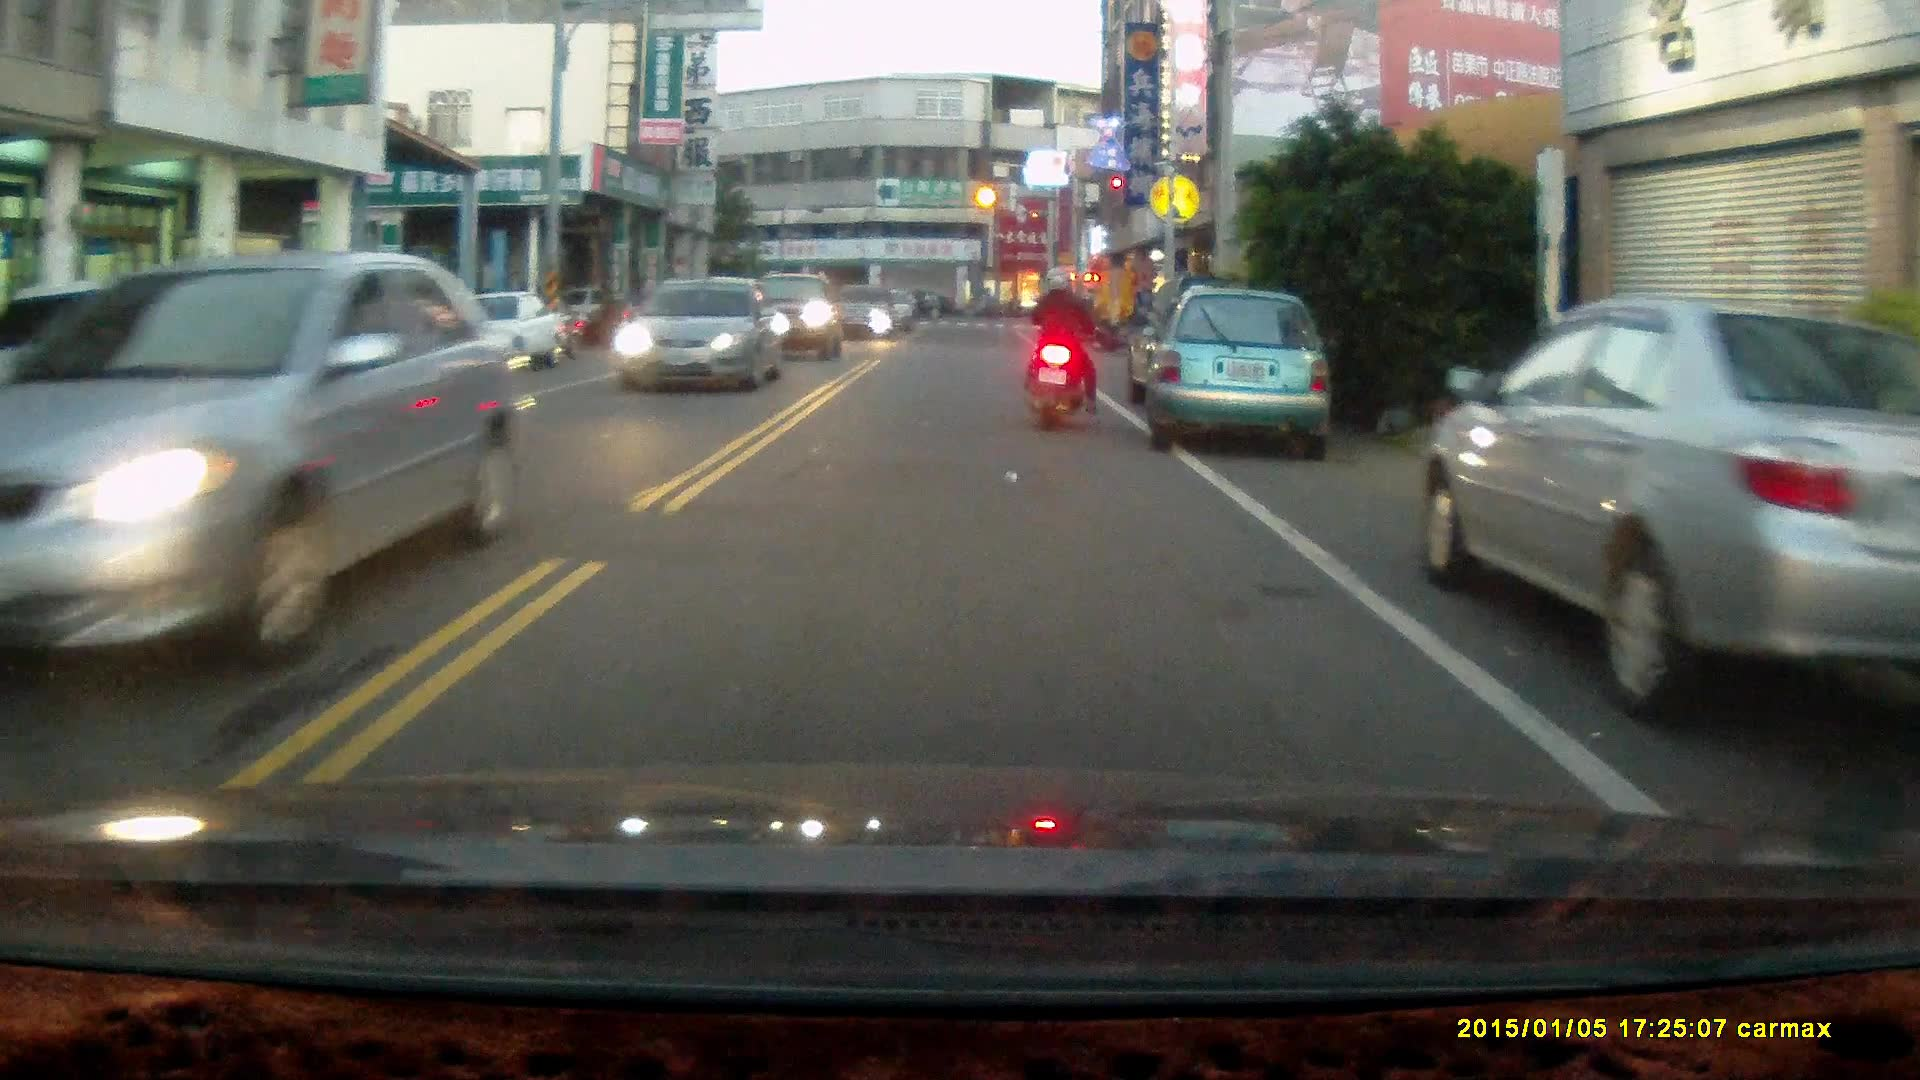rider: (1025, 265, 1105, 431)
vehicle: (1, 250, 535, 674), (1425, 296, 1920, 716), (1144, 289, 1331, 448), (620, 276, 783, 395), (722, 270, 850, 364)
